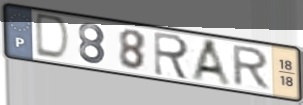8: (116, 28, 148, 71), (77, 22, 108, 66)
A: (189, 38, 235, 90)
D: (34, 12, 73, 63)
R: (152, 30, 191, 82), (231, 44, 272, 92)
